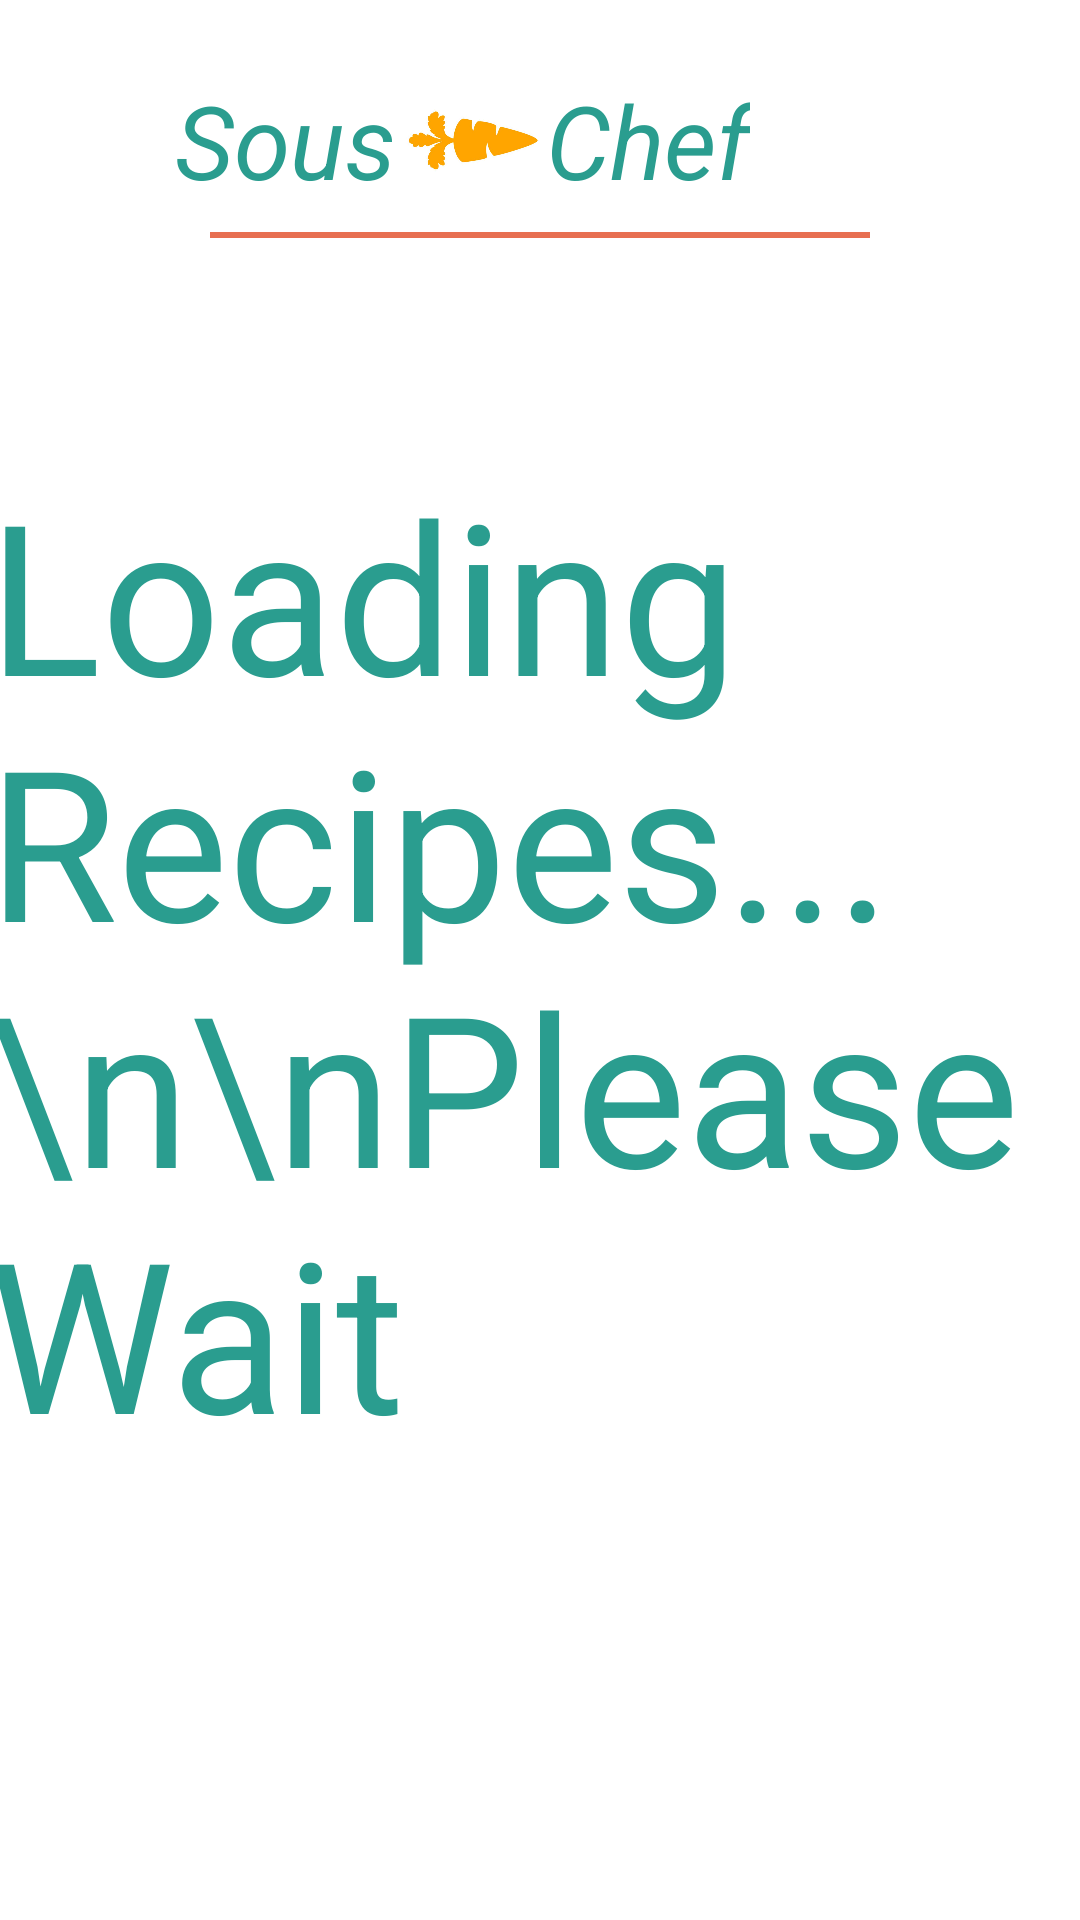

Where to tap for icons on this 1080 x 1920 app screen, as [x,y]:
carrot: [473,140]
